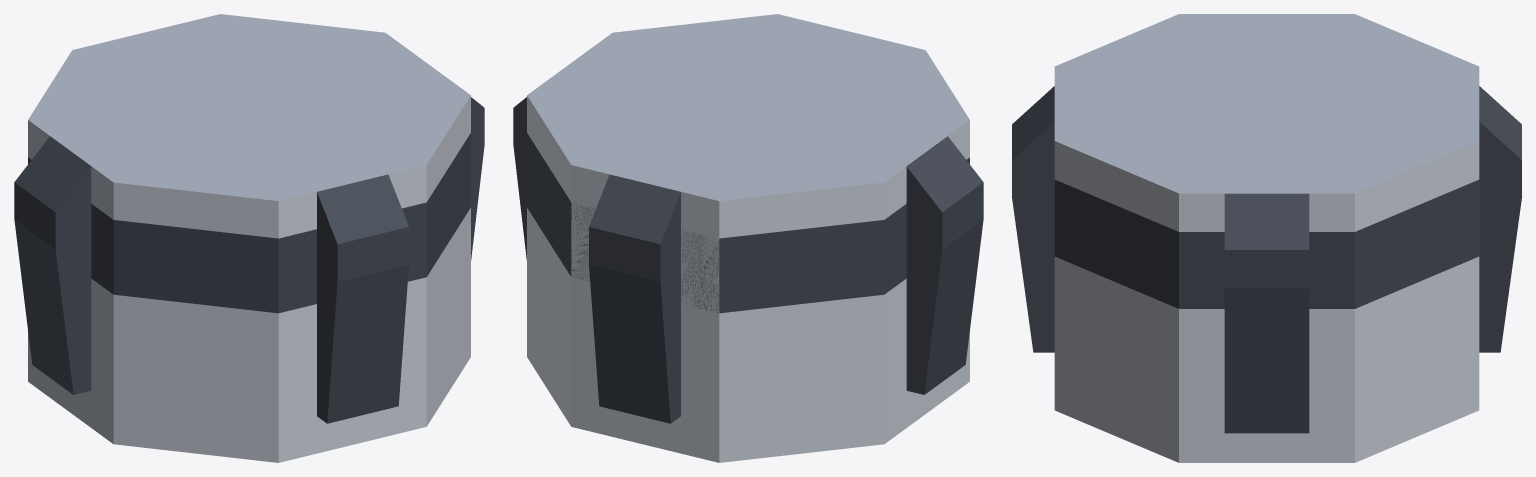
Rendered from cohete_anillo.obj.
3 views of the same model, side by side, from view 1: azimuth 30°, elevation 25°; view 2: azimuth 150°, elevation 25°; view 3: azimuth 270°, elevation 25° (orthographic). The views are drawn at different scales.
Visible parts, largest first — view 1: cohete_anillo; view 2: cohete_anillo; view 3: cohete_anillo.
Boxes of the visible parts, x1,y1,x2,y2 form: cohete_anillo: (14,14,484,462); cohete_anillo: (513,14,983,462); cohete_anillo: (1012,14,1521,462).
Size of the model in its own units: 1.2 by 0.7 by 1.2.
